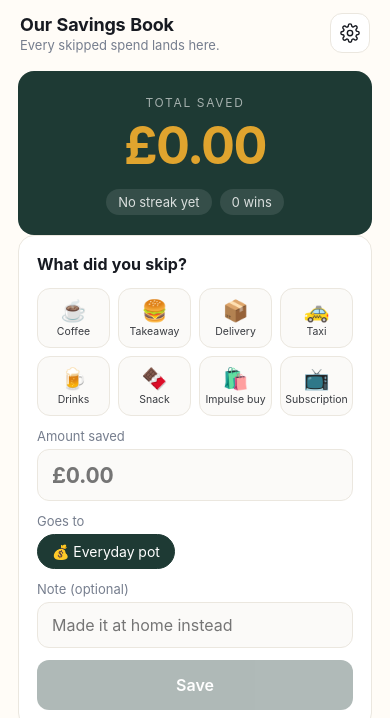
Test case: yedekleme › kopya kaydetmek indirme başlatır
Click the button named "Settings". click: (350, 33)
box: [330, 13, 370, 53]
(page scrolled)
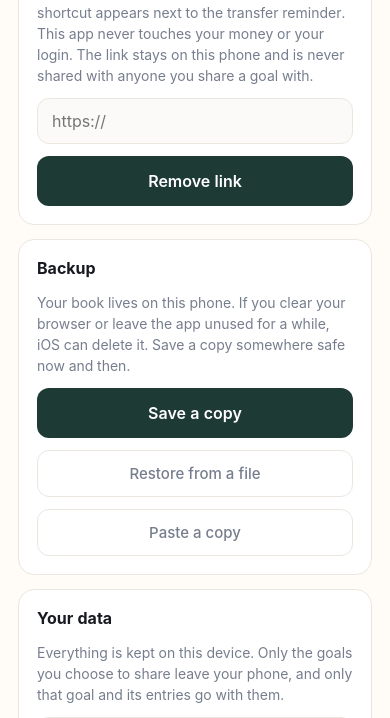
Click the button "Save a copy". click: (195, 413)
box: [37, 388, 353, 438]
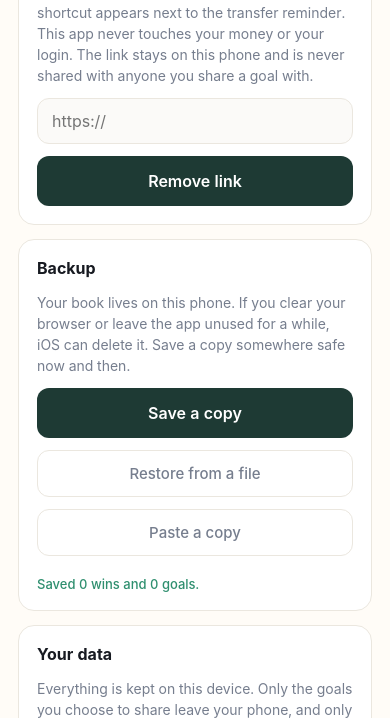
Now the text "Saved 0 wins and 0 goals." is shown, box [37, 576, 199, 592]
